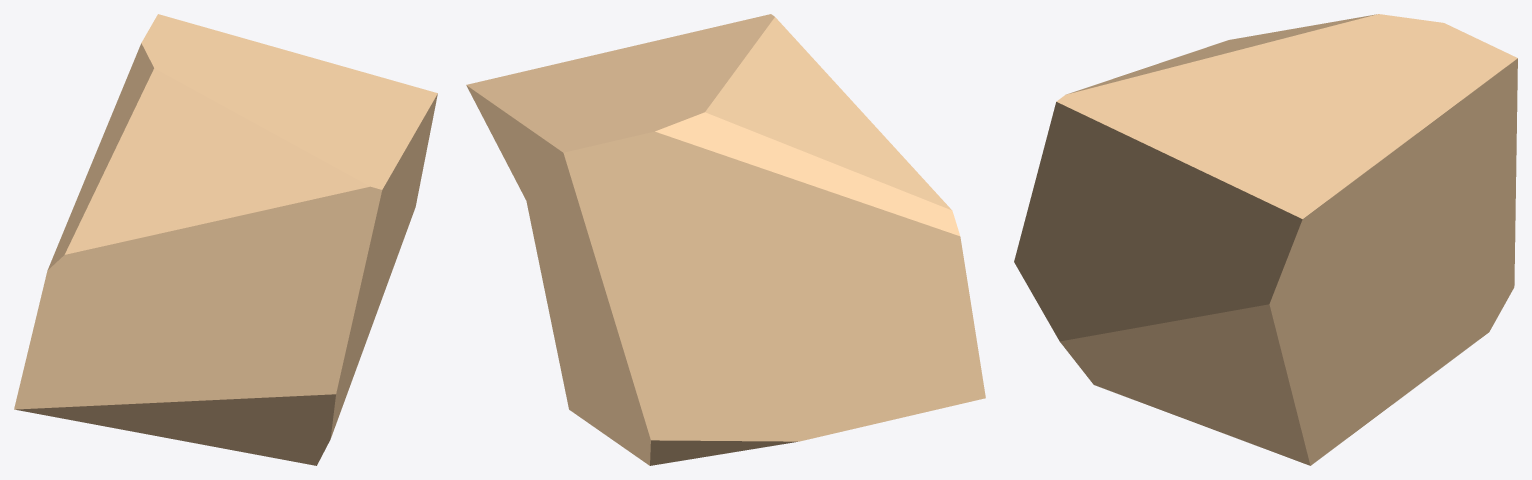
Rendered from sand-rock3.fbx.
3 renders of one model, left to right at view 1: azimuth 30°, elevation 25°; view 2: azimuth 150°, elevation 25°; view 3: azimuth 270°, elevation 25°, orthographic. The views are drawn at different scales.
Visible parts, largest first — view 1: 柱体.011; view 2: 柱体.011; view 3: 柱体.011.
Part boxes in pixels (x1,y1,x2,y2): 柱体.011: (14, 14, 437, 465); 柱体.011: (466, 14, 985, 465); 柱体.011: (1014, 14, 1517, 465).
Size of the model in its own units: 112 by 78.98 by 97.99.
